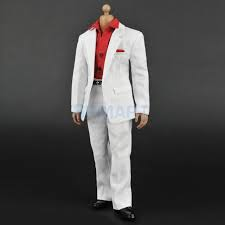F_belt: (89, 76, 110, 88)
